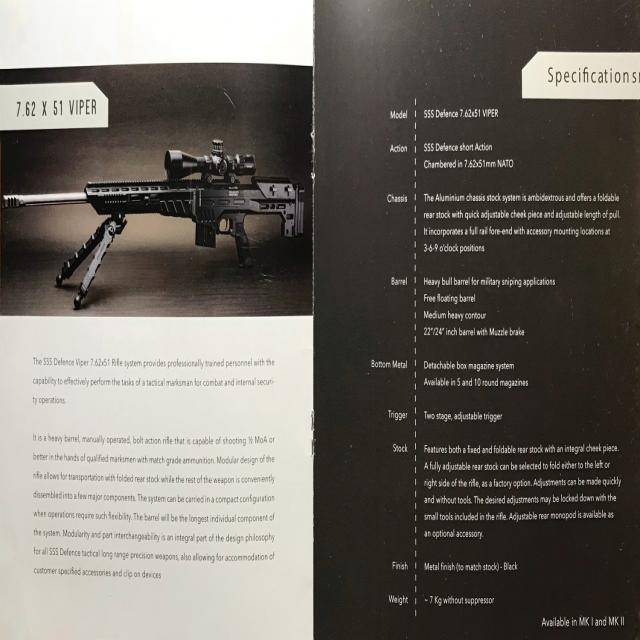Rifle: (4, 140, 305, 268)
